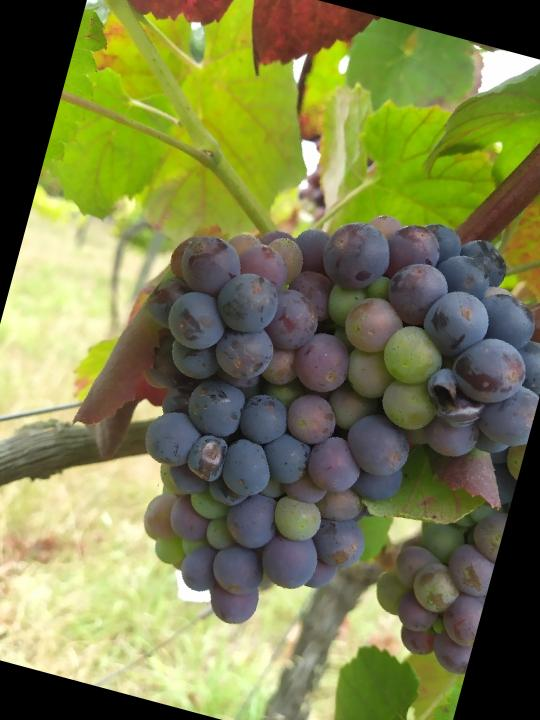grape: (65, 152, 540, 690)
